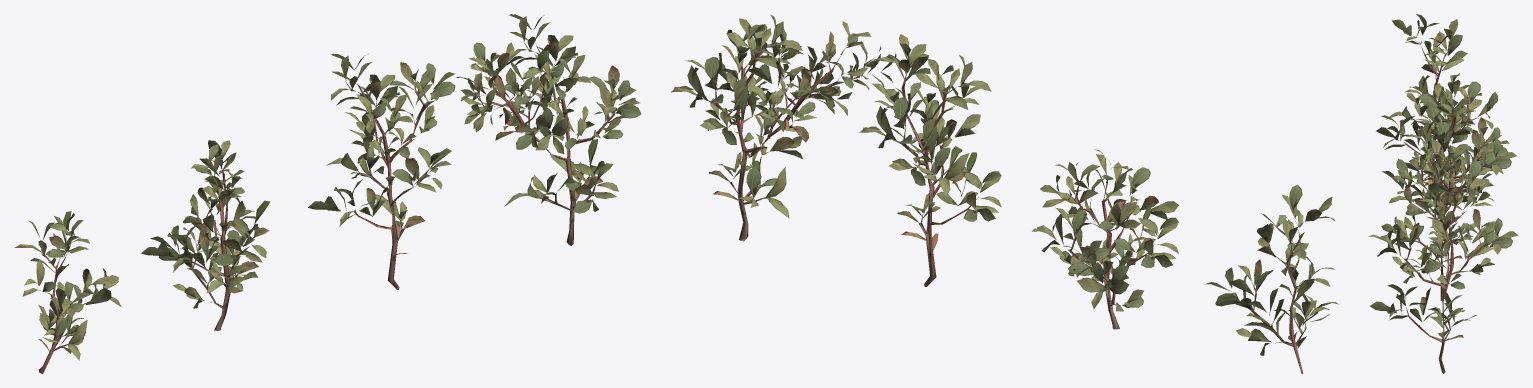
The model's file is shrub_04.glb.
3 views of the same model, side by side, from view 1: azimuth 30°, elevation 25°; view 2: azimuth 150°, elevation 25°; view 3: azimuth 270°, elevation 25° (orthographic). The views are drawn at different scales.
Parts seen in each view (by area): view 1: shrub_04; view 2: shrub_04; view 3: shrub_04.
Boxes of the visible parts, x1,y1,x2,y2 form: shrub_04: (14,14,641,373); shrub_04: (671,14,1338,373); shrub_04: (1368,14,1518,373).
Bounding box in the file's own units: 0.5837 × 0.2192 × 0.1461.
Materials: 1 (1 with a texture image).
